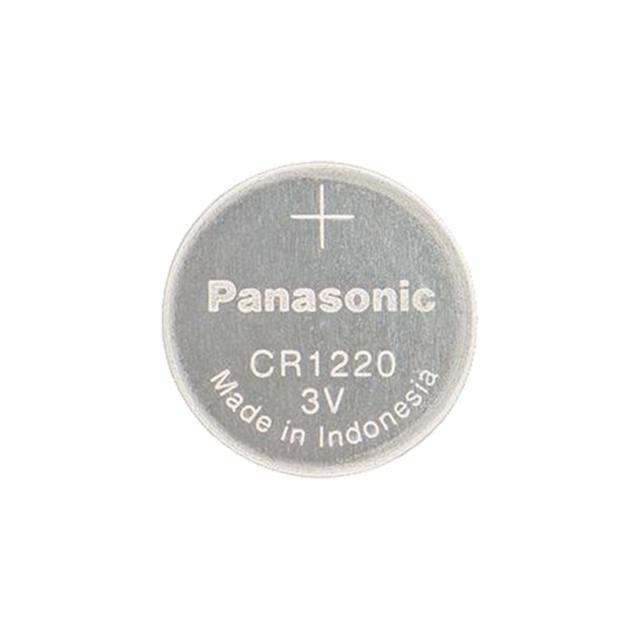COIN: (160, 159, 478, 478)
